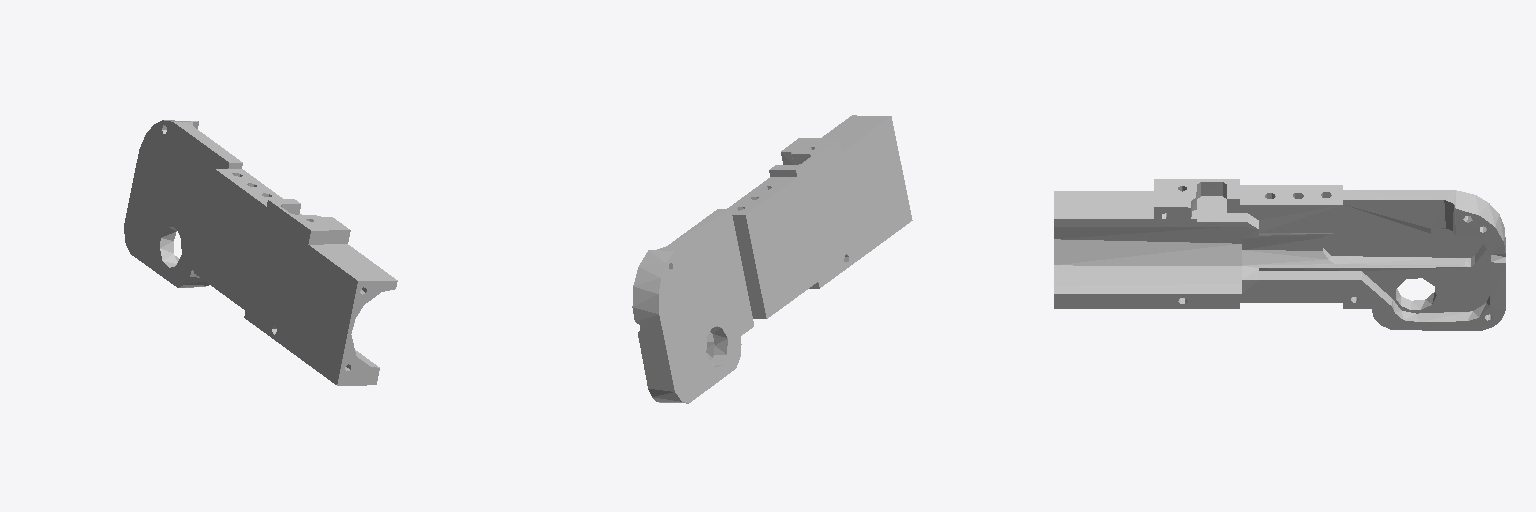
Rendered from Gehaeuse_Gewinde.obj.
3 renders of one model, left to right at view 1: azimuth 30°, elevation 25°; view 2: azimuth 150°, elevation 25°; view 3: azimuth 270°, elevation 25°, orthographic.
Visible parts, largest first — view 1: Pneumatikspanner.003; view 2: Pneumatikspanner.003; view 3: Pneumatikspanner.003.
Boxes of the visible parts, x1=… form: Pneumatikspanner.003: x1=124, y1=120, x2=397, y2=385; Pneumatikspanner.003: x1=632, y1=115, x2=912, y2=403; Pneumatikspanner.003: x1=1054, y1=179, x2=1505, y2=330.
Size of the model in its own units: 0.0391 by 0.0863 by 0.2405.